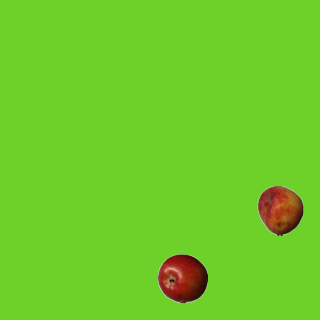Apple Braeburn: (157, 253, 207, 303)
Peach: (255, 185, 305, 235)
